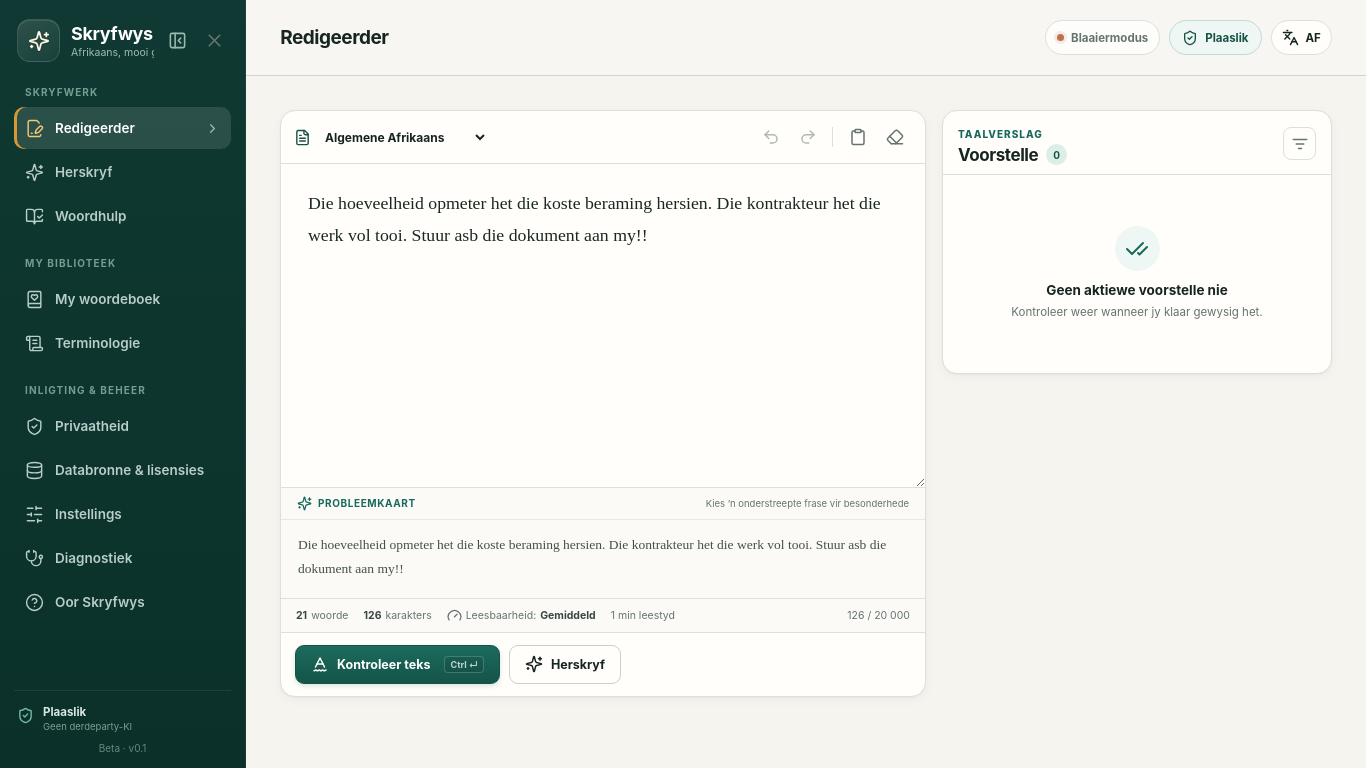
Scenario: Skryfwys application › falls back transparently to the limited local checker
Click the button "Kontroleer teks Ctrl ↵": (397, 664) x1=295 y1=644 x2=500 y2=684
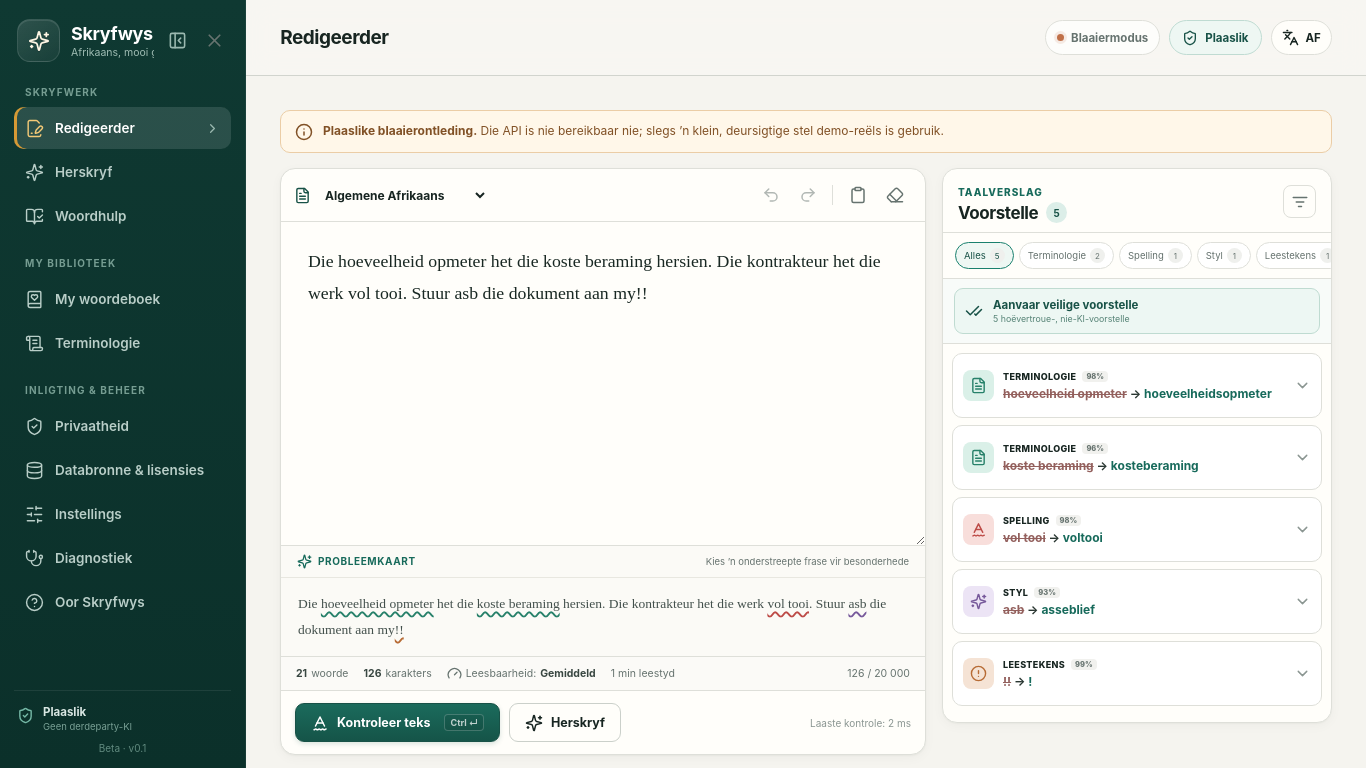
Check: the text "Plaaslike blaaierontleding." is shown, box x1=323 y1=123 x2=477 y2=138
Check: the text "5 hoëvertroue-, nie-KI-voorstelle" is shown, box x1=993 y1=313 x2=1138 y2=324
